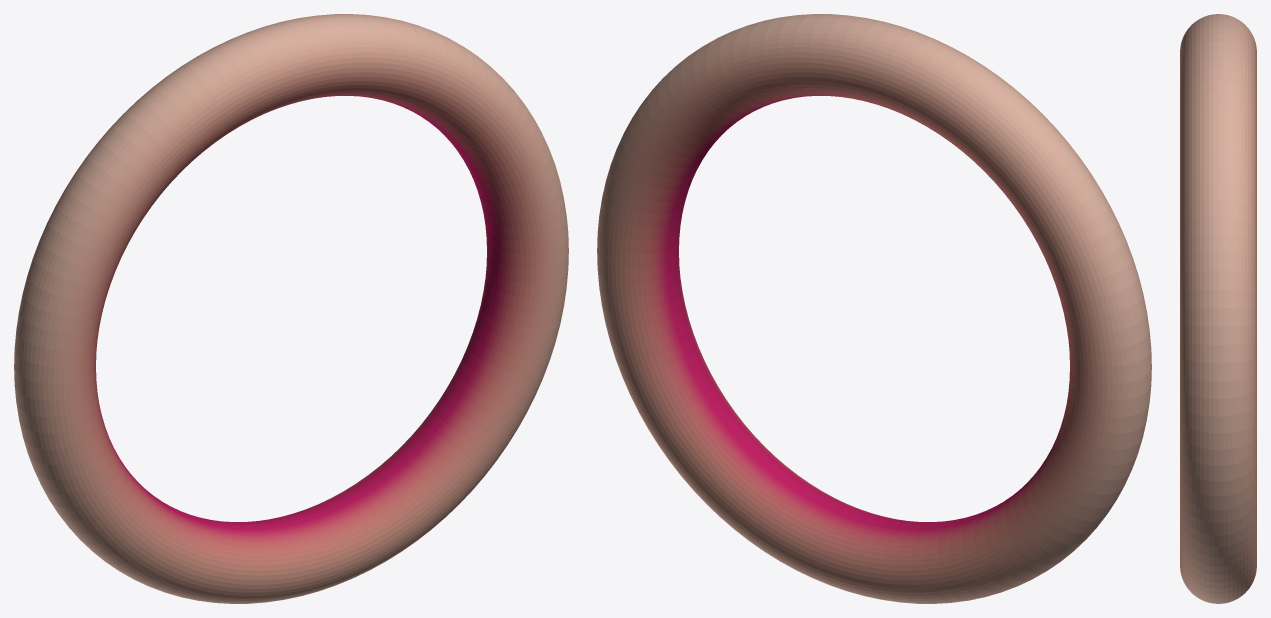
3 views of the same model, side by side, from view 1: azimuth 30°, elevation 25°; view 2: azimuth 150°, elevation 25°; view 3: azimuth 270°, elevation 25° (orthographic). The views are drawn at different scales.
Visible parts, largest first — view 1: world; view 2: world; view 3: world.
Part boxes in pixels (x1=…): world: x1=14, y1=14, x2=568, y2=603; world: x1=597, y1=14, x2=1151, y2=603; world: x1=1180, y1=14, x2=1256, y2=603.
Bounding box in the file's own units: 21.47 × 21.47 × 2.79.
